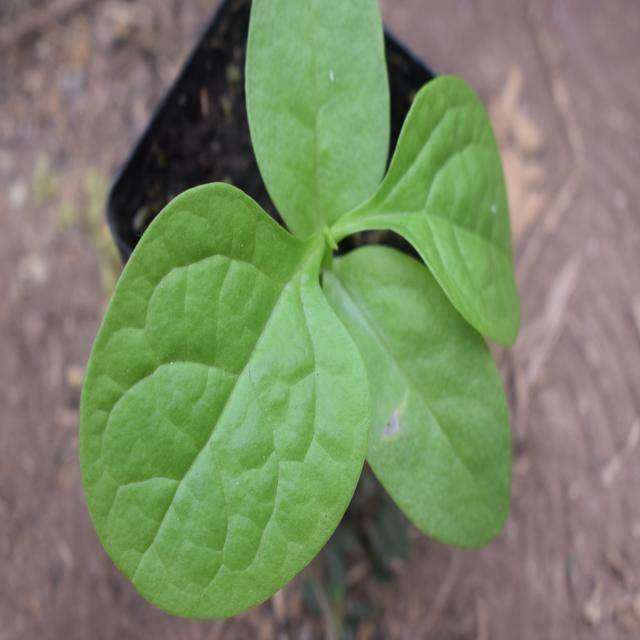Ceylon spinach: (76, 18, 521, 608)
